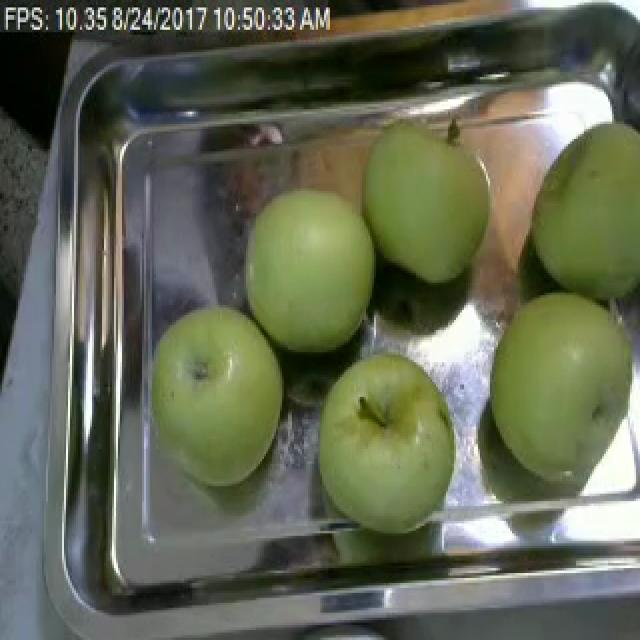50-_ripeness: (485, 288, 640, 490), (141, 308, 288, 501), (322, 350, 462, 537), (525, 107, 640, 293), (358, 114, 500, 264), (249, 194, 392, 337)
